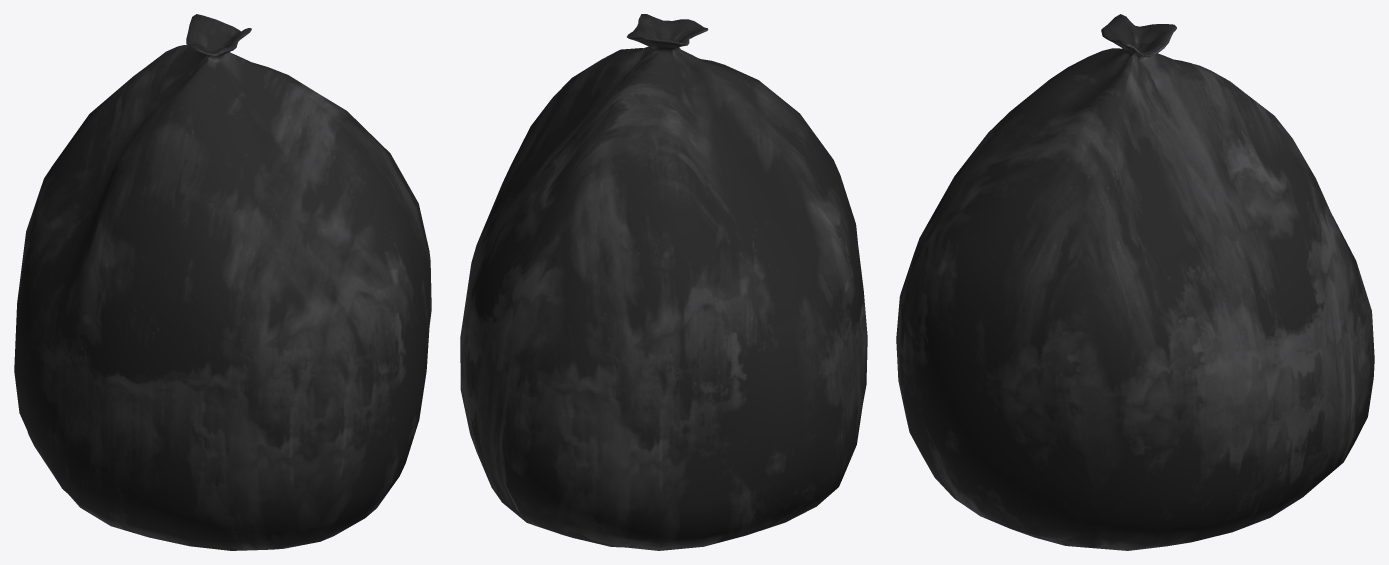
Rendered from Garbage_bag_0.glb.
3 renders of one model, left to right at view 1: azimuth 30°, elevation 25°; view 2: azimuth 150°, elevation 25°; view 3: azimuth 270°, elevation 25°, orthographic. The views are drawn at different scales.
Parts seen in each view (by area): view 1: trashbag; view 2: trashbag; view 3: trashbag.
Part boxes in pixels (box(x1,y1,x2,y2)): trashbag: box(14, 14, 431, 550); trashbag: box(460, 14, 867, 550); trashbag: box(896, 14, 1374, 550).
Bounding box in the file's own units: 1.07 × 1.38 × 1.26.
1 material, 1 textured.
